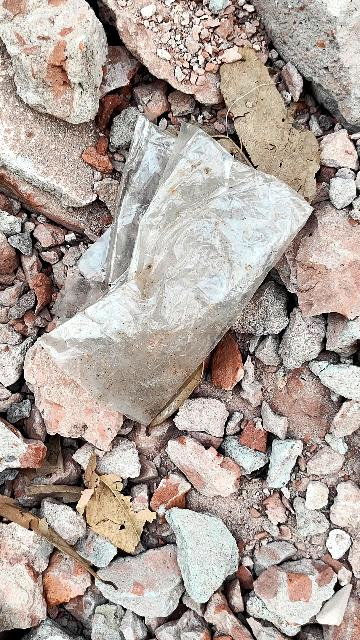polythene: (9, 108, 308, 421)
